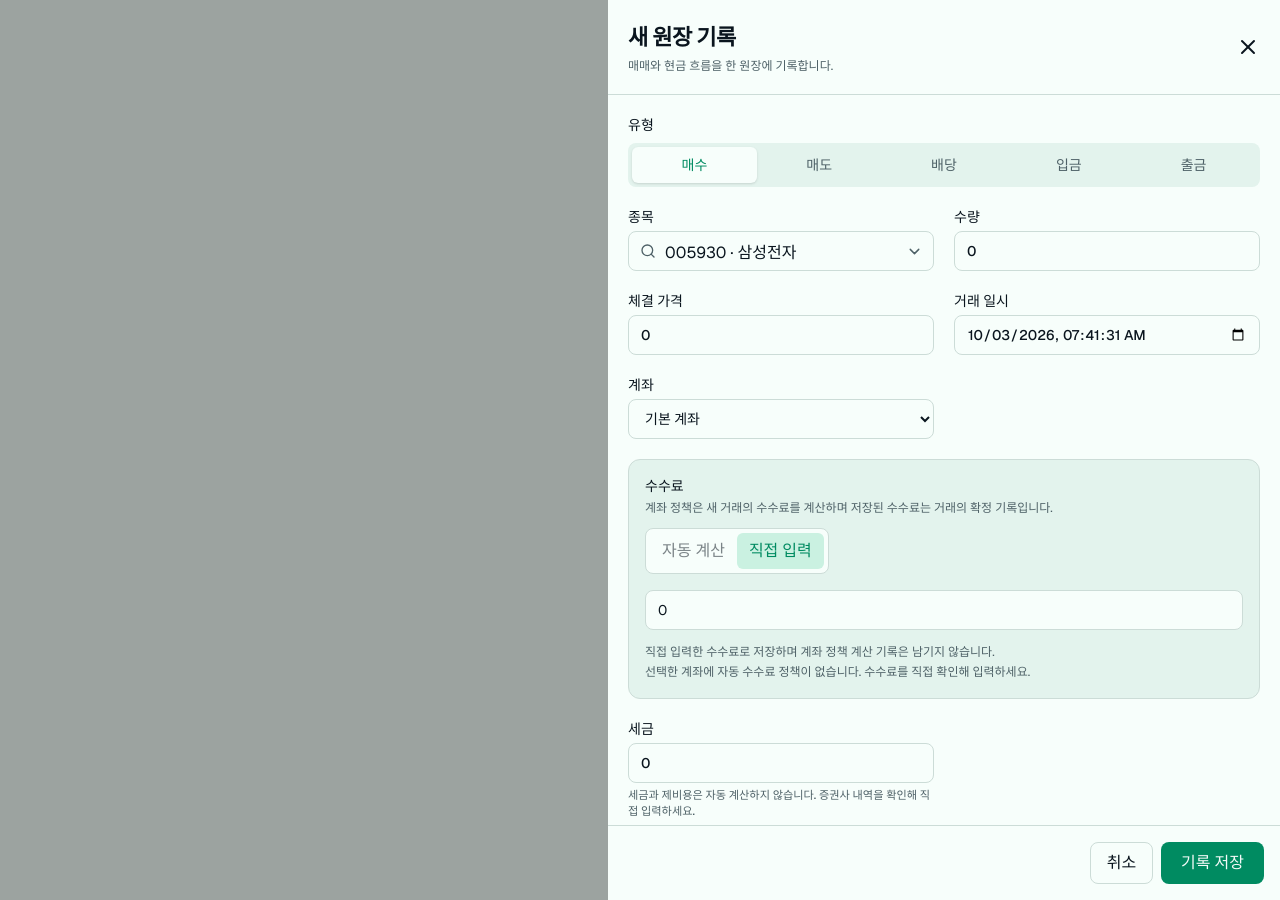
Test: TradeForm › 원화 종목에서 달러 종목으로 바꾸면 기본 환율을 적용한다
Step 1. Replace the text in the dropdown labelled "종목" with "MU" → (781, 251), box [628,231,934,271]
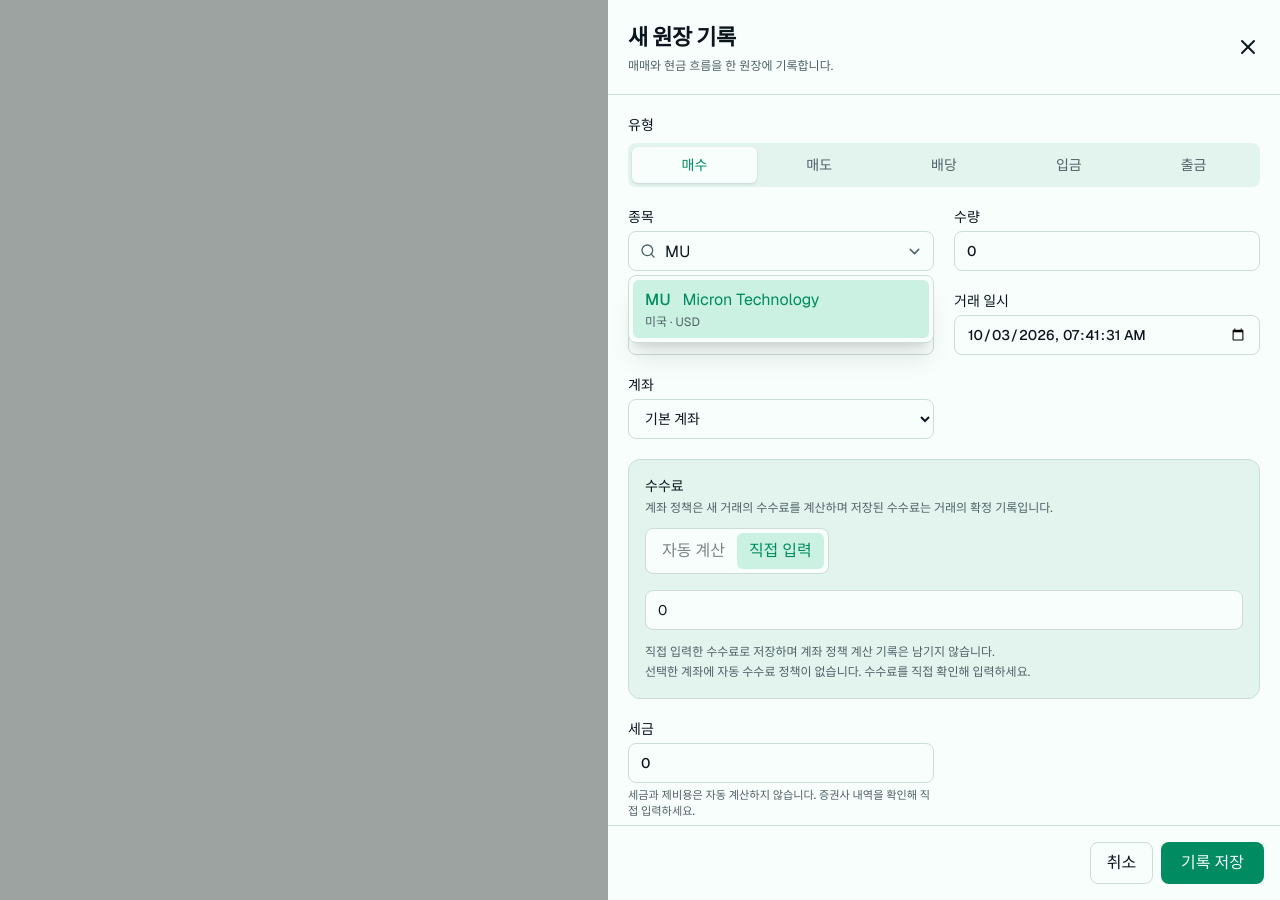
Step 2. Click the option with aria-label "MU · Micron Technology" → (781, 309), box [633,280,929,338]
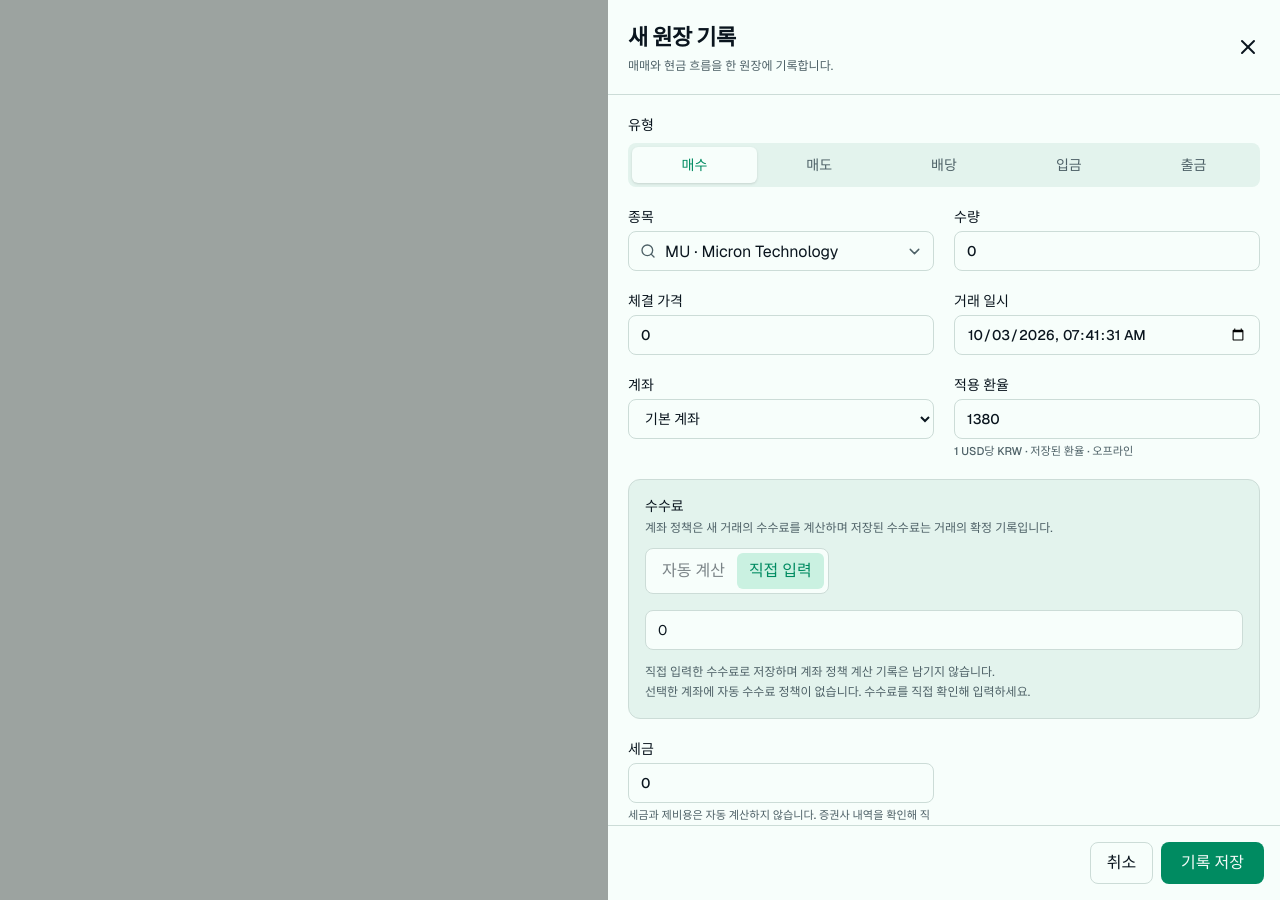
Expected: the number field labelled "적용 환율" holds "1380", [954,399,1260,439]
